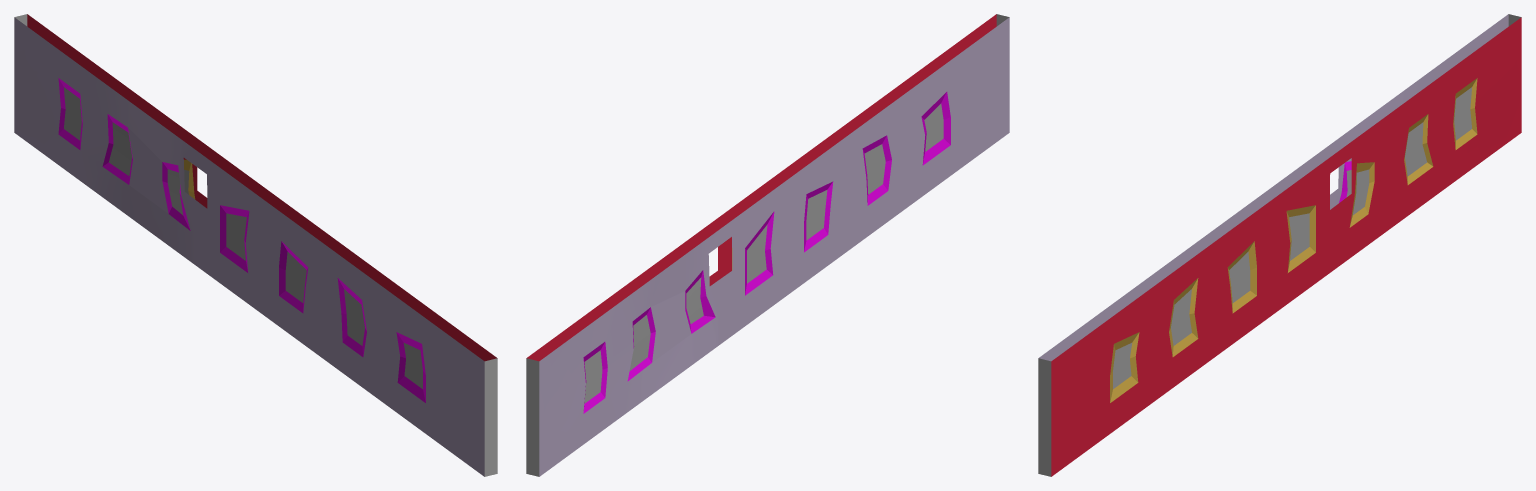
The model's file is SM_SchoolWallSoutTop_3_2.fbx.
3 views of the same model, side by side, from view 1: azimuth 30°, elevation 25°; view 2: azimuth 150°, elevation 25°; view 3: azimuth 330°, elevation 25° (orthographic).
Parts seen in each view (by area): view 1: SM_SchoolWallSoutTop_3_2; view 2: SM_SchoolWallSoutTop_3_2; view 3: SM_SchoolWallSoutTop_3_2.
Boxes of the visible parts, x1,y1,x2,y2 form: SM_SchoolWallSoutTop_3_2: (14, 14, 497, 476); SM_SchoolWallSoutTop_3_2: (526, 14, 1009, 476); SM_SchoolWallSoutTop_3_2: (1038, 14, 1521, 476).
Bounding box in the file's own units: 60.74 × 510 × 3760.
